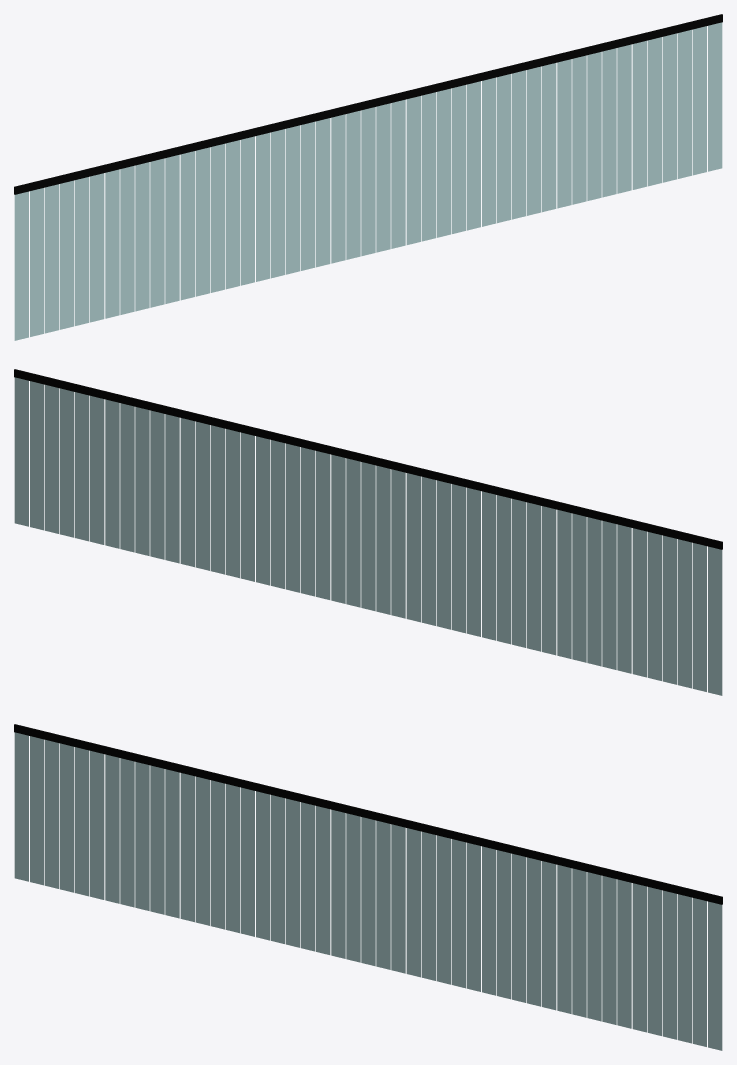
File: Vinyl_Curtain-10x2.fbx
3 renders of one model, top to bottom at view 1: azimuth 30°, elevation 25°; view 2: azimuth 150°, elevation 25°; view 3: azimuth 330°, elevation 25°, orthographic.
Visible parts, largest first — view 1: Plane; view 2: Plane; view 3: Plane.
Part boxes in pixels (x1,y1,x2,y2): Plane: (14, 14, 722, 340); Plane: (14, 369, 722, 695); Plane: (14, 724, 722, 1050).
Bounding box in the file's own units: 2.5 × 987 × 205.
